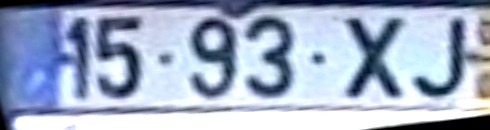1: (62, 13, 99, 107)
3: (238, 11, 308, 106)
5: (92, 16, 151, 105)
9: (182, 13, 244, 105)
J: (406, 15, 473, 106)
X: (341, 16, 411, 102)
